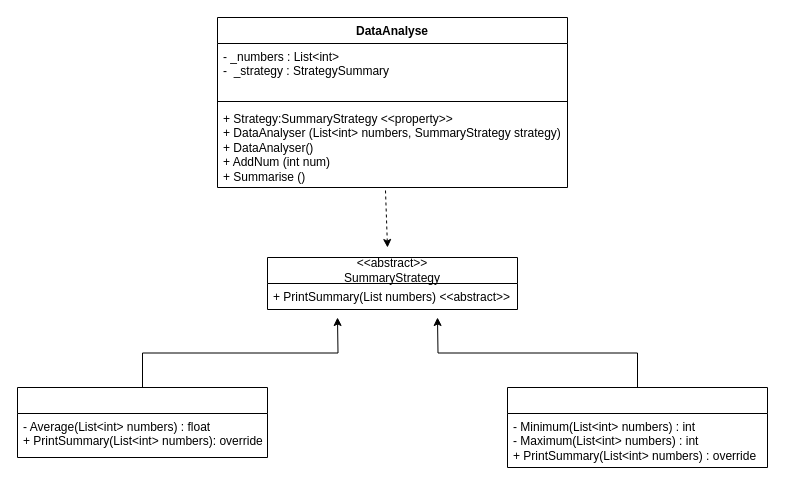
The diagram is 785 pixels wide and 488 high, and some of its shapes have lost their labels. The box of each missing label's shape, as (x1, y1, x2, y2) in pixels:
AverageSummary: (16, 386, 268, 458)
MinMaxSummary: (506, 386, 768, 468)
